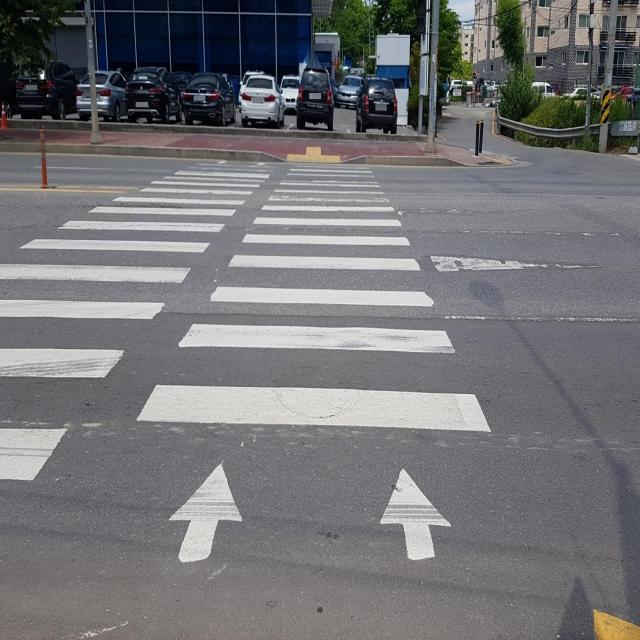횡단보도: (2, 157, 494, 567)
